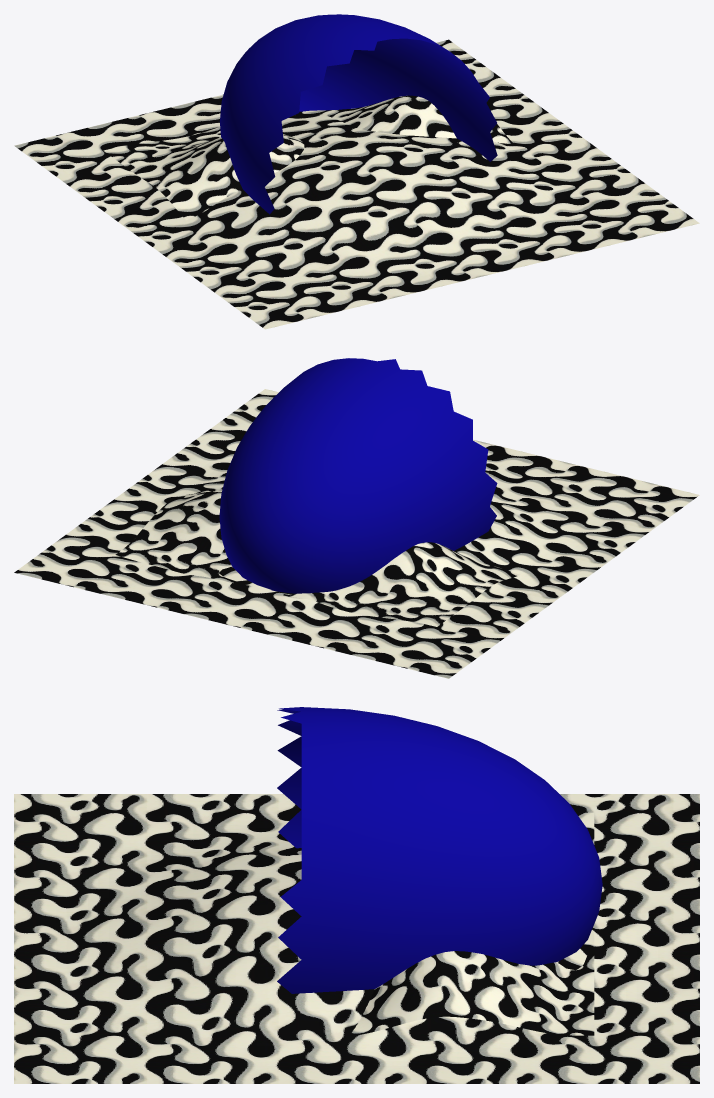
File: IntroScene2.glb
The picture shows the model from 3 angles, top to bottom: view 1: azimuth 30°, elevation 25°; view 2: azimuth 150°, elevation 25°; view 3: azimuth 270°, elevation 25°; orthographic projection. The views are drawn at different scales.
Visible parts, largest first — view 1: FLOOR_NEW, BG, main.001, main.004; view 2: FLOOR_NEW, BG, main.001, main.004; view 3: FLOOR_NEW, BG, main.004.
Part boxes in pixels (<box>): FLOOR_NEW: <box>14,39,699,329</box>; BG: <box>219,14,497,214</box>; main.001: <box>103,127,304,220</box>; main.004: <box>299,95,513,143</box>; FLOOR_NEW: <box>14,389,699,678</box>; BG: <box>219,358,497,593</box>; main.001: <box>283,542,519,626</box>; main.004: <box>115,490,270,590</box>; FLOOR_NEW: <box>14,794,699,1083</box>; BG: <box>277,707,602,993</box>; main.004: <box>351,930,594,1035</box>.
Size of the model in its own units: 29.86 by 15.48 by 29.86.
2 materials, 1 textured.
